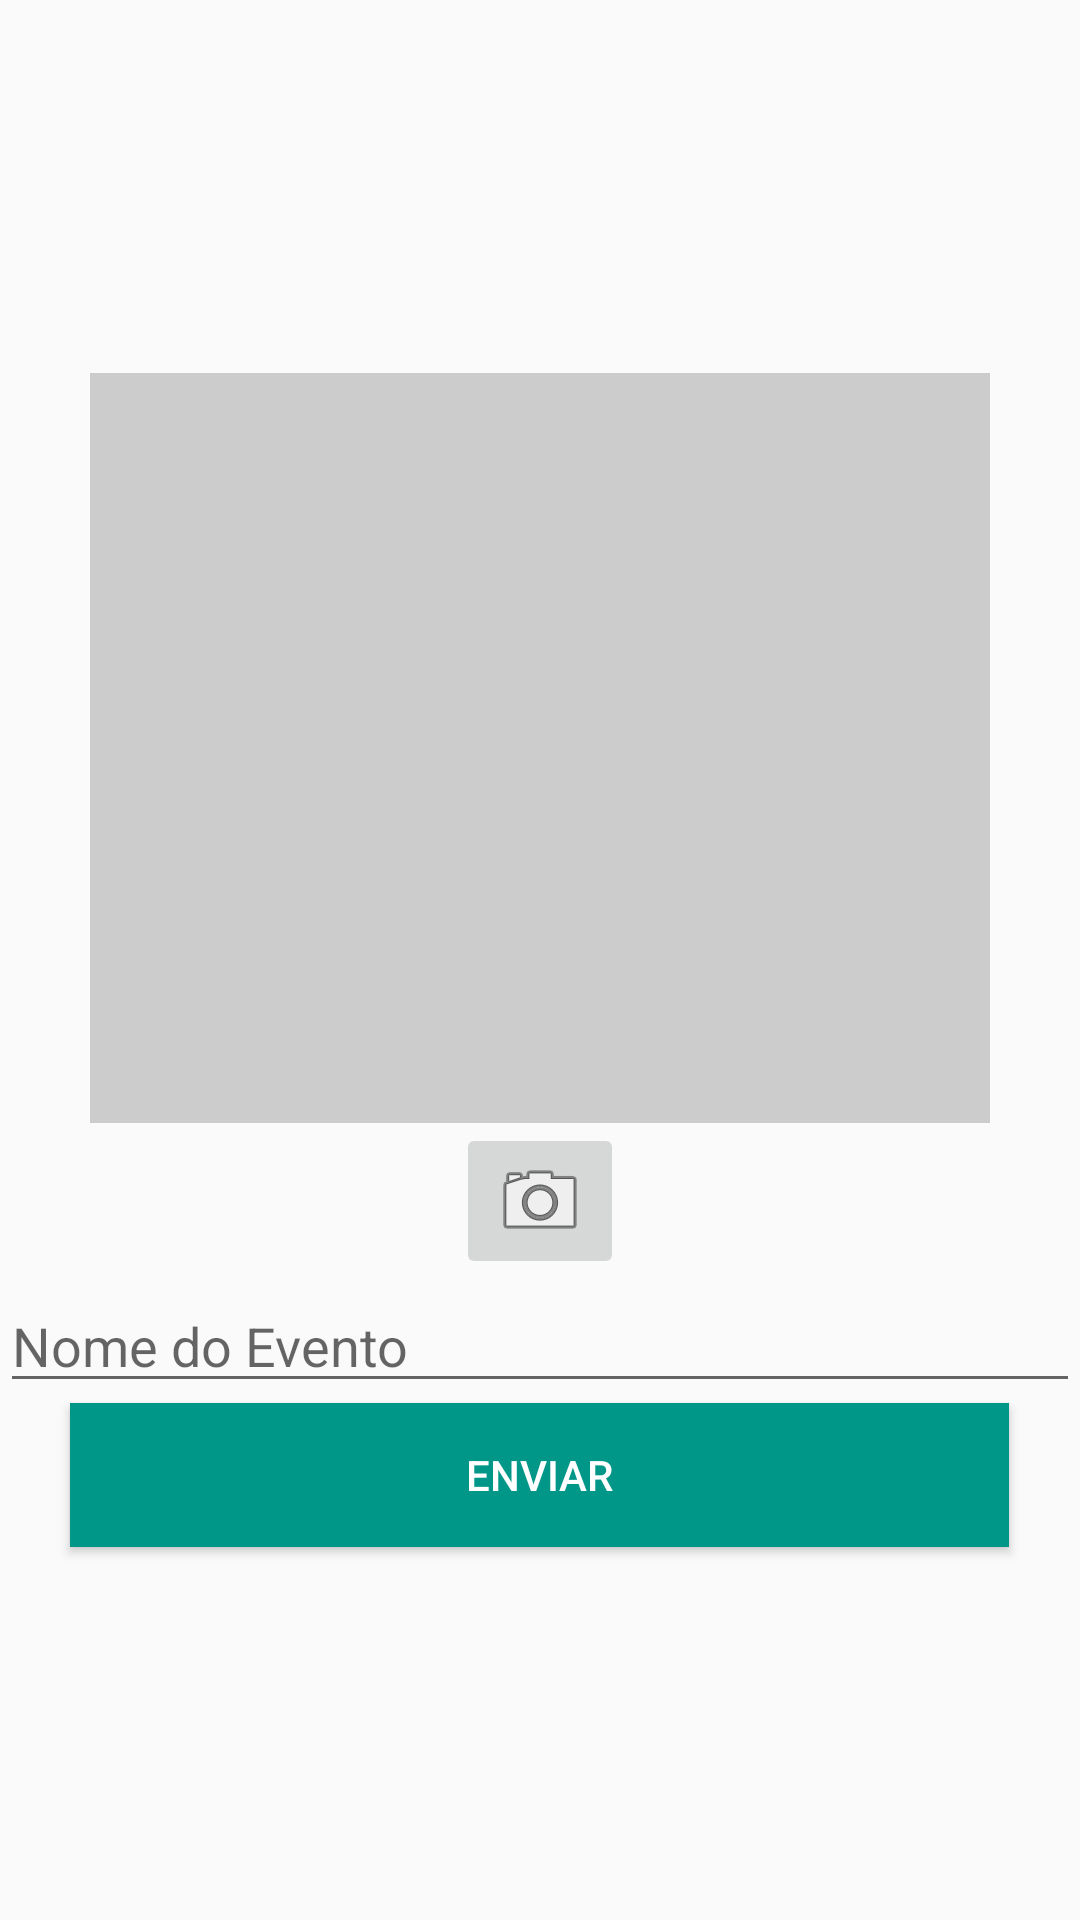

Screen size 1080*1920. Icon name, then its center in pixels as (x=x, y=y):
camera: (x=540, y=1201)
